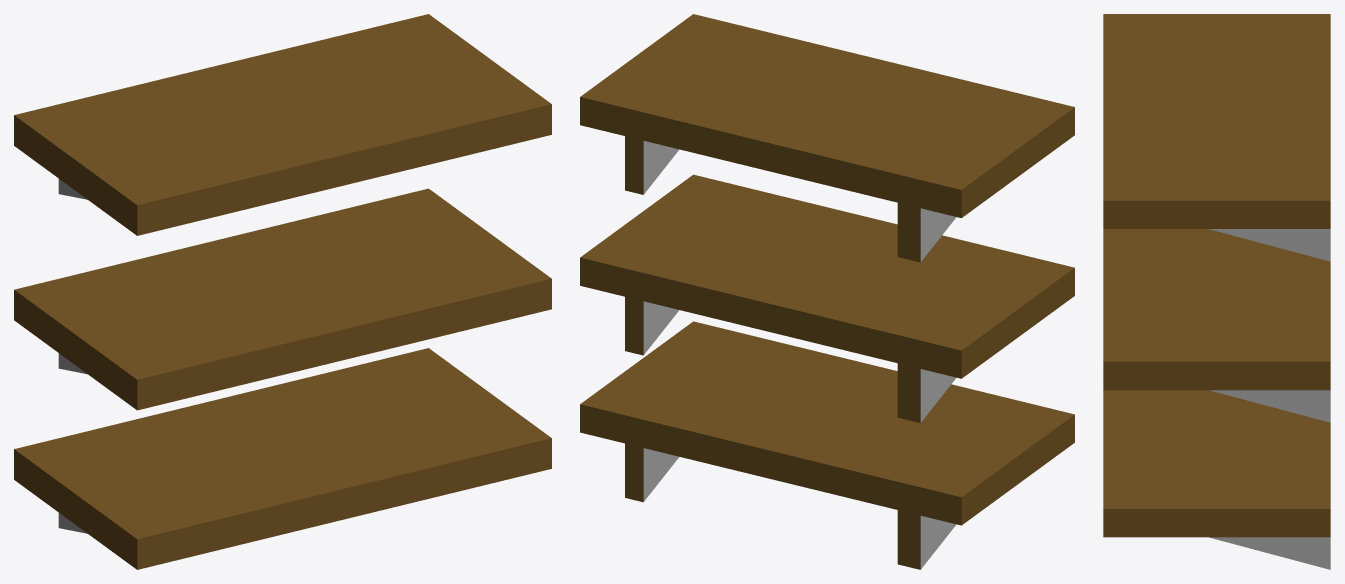
The model's file is Shelves.glb.
The picture shows the model from 3 angles, left to right: view 1: azimuth 30°, elevation 25°; view 2: azimuth 150°, elevation 25°; view 3: azimuth 270°, elevation 25°; orthographic projection. The views are drawn at different scales.
Visible parts, largest first — view 1: Cube; view 2: Cube; view 3: Cube.
Part boxes in pixels (x1=…): Cube: x1=14, y1=14, x2=551, y2=569; Cube: x1=580, y1=14, x2=1074, y2=569; Cube: x1=1103, y1=14, x2=1330, y2=569.
Bounding box in the file's own units: 2 × 1.95 × 1.03.
